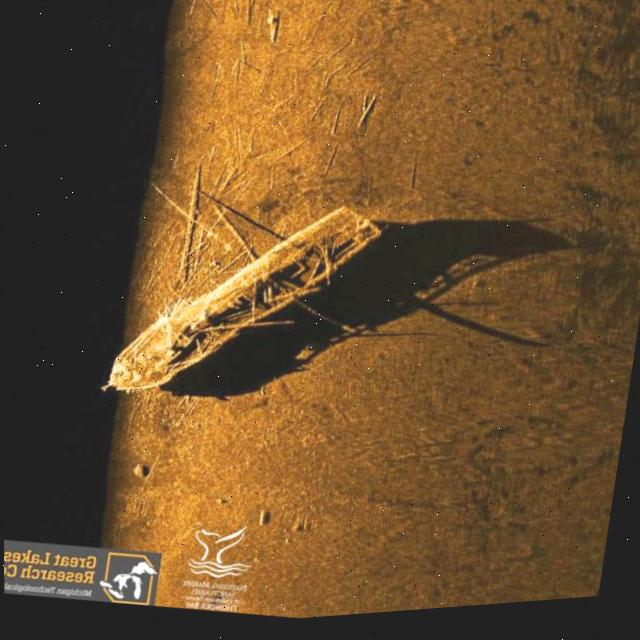shipwreck: (87, 169, 392, 436)
